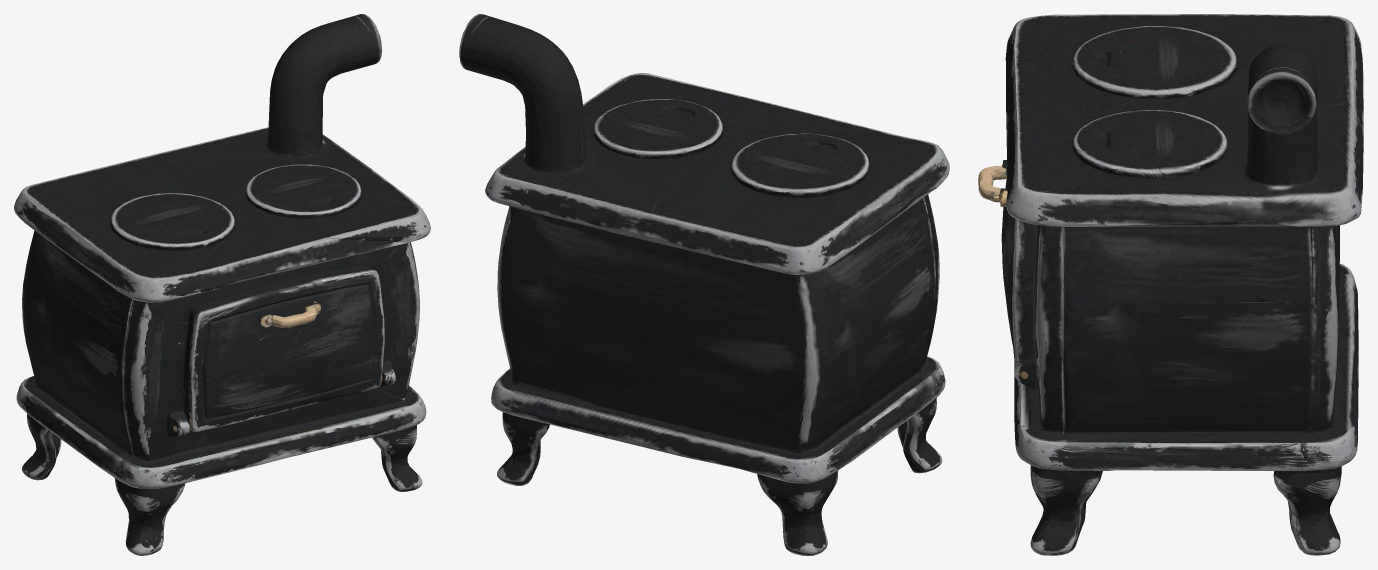
The model's file is kitchen_stove.glb.
The picture shows the model from 3 angles, left to right: view 1: azimuth 30°, elevation 25°; view 2: azimuth 150°, elevation 25°; view 3: azimuth 270°, elevation 25°; orthographic projection. The views are drawn at different scales.
Visible parts, largest first — view 1: Mesh_0; view 2: Mesh_0; view 3: Mesh_0.
Boxes of the visible parts, bbox=[...] form: Mesh_0: bbox=[14, 14, 430, 555]; Mesh_0: bbox=[459, 14, 949, 555]; Mesh_0: bbox=[978, 14, 1363, 555].
Size of the model in its own units: 1.71 by 1.9 by 1.31.
1 material, 1 textured.
